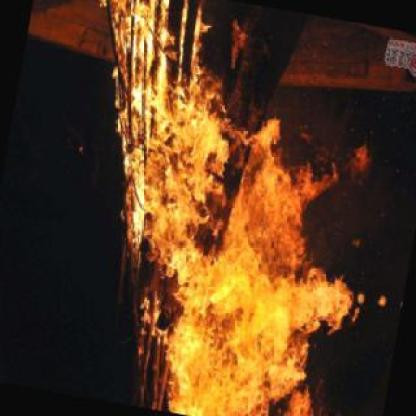Fire: (113, 0, 360, 416)
